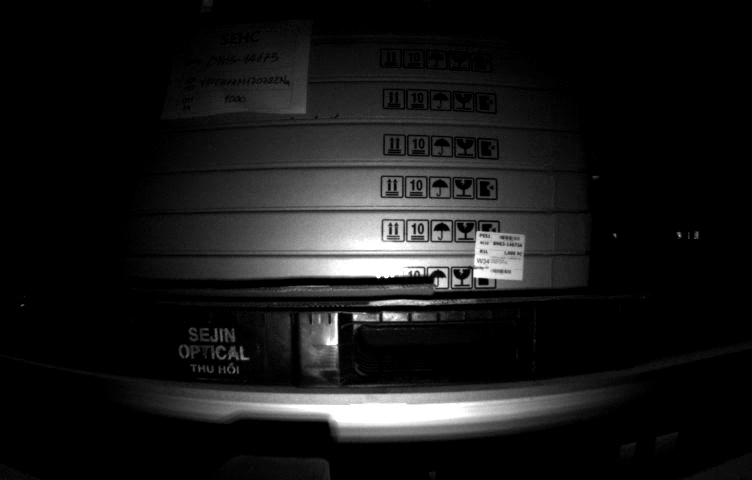True Barcode: (473, 231, 524, 283)
